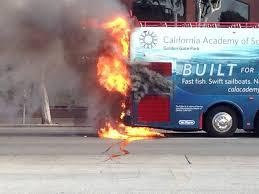fire: (95, 14, 133, 123)
